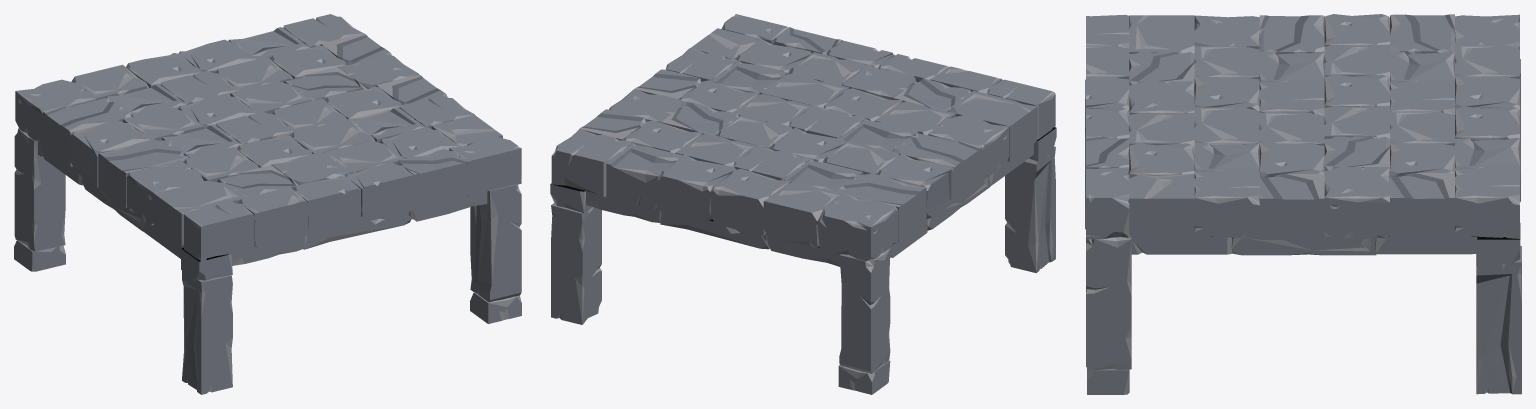
Rendered from mesh_stone_platform.fbx.
The picture shows the model from 3 angles, left to right: view 1: azimuth 30°, elevation 25°; view 2: azimuth 150°, elevation 25°; view 3: azimuth 270°, elevation 25°; orthographic projection. The views are drawn at different scales.
Visible parts, largest first — view 1: mesh_stone_platform; view 2: mesh_stone_platform; view 3: mesh_stone_platform.
Part boxes in pixels (x1,y1,x2,y2): mesh_stone_platform: (14,14,521,394); mesh_stone_platform: (550,14,1056,394); mesh_stone_platform: (1085,14,1521,394).
Size of the model in its own units: 2.01 by 1 by 2.01.
